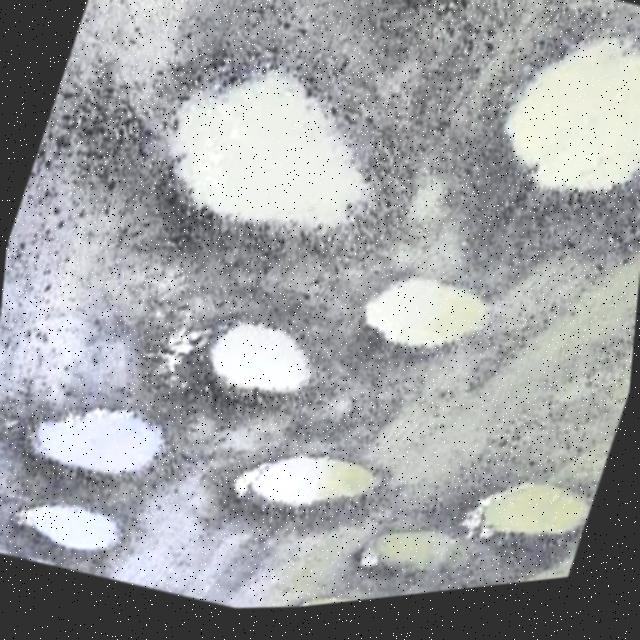Pothole: (84, 32, 423, 324), (453, 32, 640, 293), (205, 395, 426, 591), (328, 239, 514, 407), (8, 357, 194, 523), (182, 290, 346, 442), (318, 487, 517, 612), (0, 469, 163, 597), (455, 447, 602, 588), (296, 572, 448, 614)
